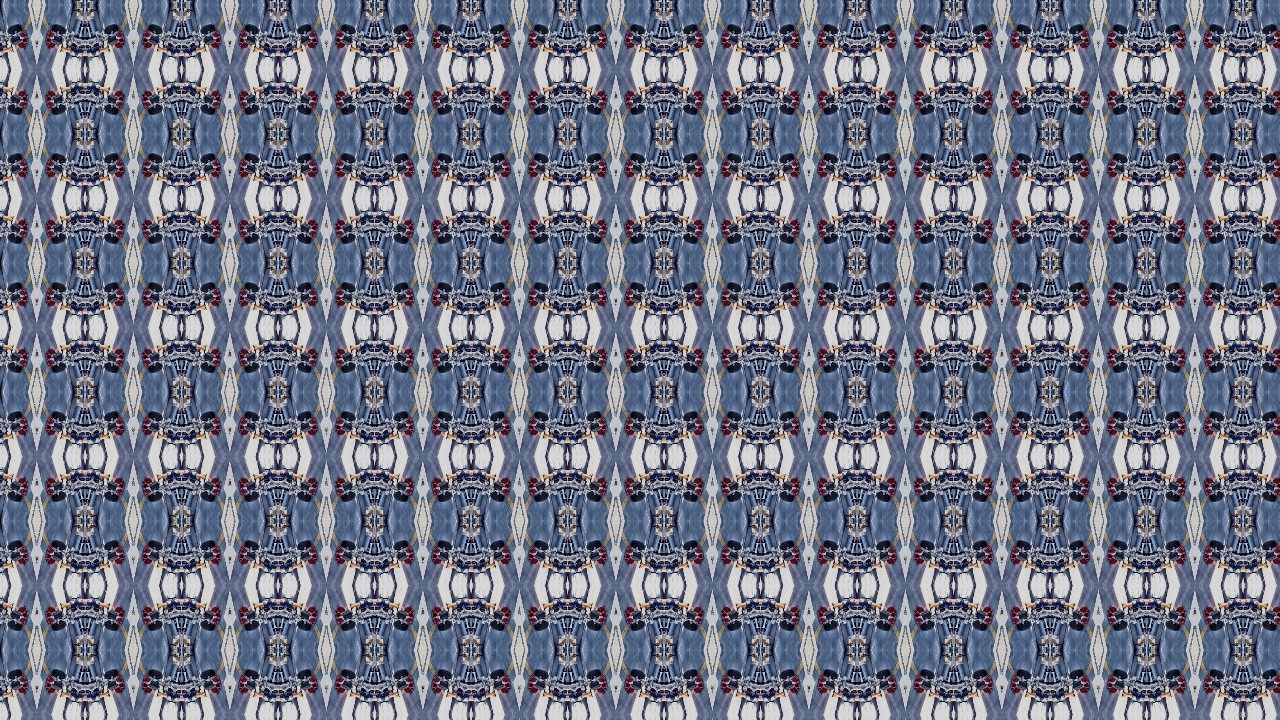chock: (16, 28, 27, 46), (41, 28, 52, 46), (113, 28, 124, 46), (138, 28, 149, 46), (210, 28, 221, 46), (235, 28, 246, 46), (307, 28, 318, 46), (332, 28, 343, 46), (404, 28, 415, 46), (429, 28, 440, 46), (501, 28, 512, 46), (526, 28, 537, 46), (598, 28, 609, 46), (623, 28, 634, 46), (695, 28, 706, 46), (720, 28, 731, 46), (792, 28, 803, 46), (817, 28, 828, 46), (889, 28, 900, 46), (914, 28, 925, 46), (986, 28, 997, 46), (1011, 28, 1022, 46), (1083, 28, 1094, 46), (1108, 28, 1119, 46), (1180, 28, 1191, 46), (1205, 28, 1216, 46), (16, 91, 27, 109), (41, 91, 52, 109), (113, 91, 124, 109), (138, 91, 149, 109), (210, 91, 221, 109), (235, 91, 246, 109), (307, 91, 318, 109), (332, 91, 343, 109), (404, 91, 415, 109), (429, 91, 440, 109), (501, 91, 512, 109), (526, 91, 537, 109), (598, 91, 609, 109), (623, 91, 634, 109), (695, 91, 706, 109), (720, 91, 731, 109), (792, 91, 803, 109), (817, 91, 828, 109), (889, 91, 900, 109), (914, 91, 925, 109), (986, 91, 997, 109), (1011, 91, 1022, 109), (1083, 91, 1094, 109), (1108, 91, 1119, 109), (1180, 91, 1191, 109), (1205, 91, 1216, 109), (16, 157, 27, 175), (41, 157, 52, 175), (113, 157, 124, 175), (138, 157, 149, 175), (210, 157, 221, 175), (235, 157, 246, 175), (307, 157, 318, 175), (332, 157, 343, 175), (404, 157, 415, 175), (429, 157, 440, 175), (501, 157, 512, 175), (526, 157, 537, 175), (598, 157, 609, 175), (623, 157, 634, 175), (695, 157, 706, 175), (720, 157, 731, 175), (792, 157, 803, 175), (817, 157, 828, 175), (889, 157, 900, 175), (914, 157, 925, 175), (986, 157, 997, 175), (1011, 157, 1022, 175), (1083, 157, 1094, 175), (1108, 157, 1119, 175), (1180, 157, 1191, 175), (1205, 157, 1216, 175), (16, 221, 27, 239), (41, 221, 52, 239), (113, 221, 124, 239), (138, 221, 149, 239), (210, 221, 221, 239), (235, 221, 246, 239), (307, 221, 318, 239), (332, 221, 343, 239), (404, 221, 415, 239), (429, 221, 440, 239), (501, 221, 512, 239), (526, 221, 537, 239), (598, 221, 609, 239), (623, 221, 634, 239), (695, 221, 706, 239), (720, 221, 731, 239), (792, 221, 803, 239), (817, 221, 828, 239), (889, 221, 900, 239), (914, 221, 925, 239), (986, 221, 997, 239), (1011, 221, 1022, 239), (1083, 221, 1094, 239), (1108, 221, 1119, 239), (1180, 221, 1191, 239), (1205, 221, 1216, 239), (16, 287, 27, 305), (41, 287, 52, 305), (113, 287, 124, 305), (138, 287, 149, 305), (210, 287, 221, 305), (235, 287, 246, 305), (307, 287, 318, 305), (332, 287, 343, 305), (404, 287, 415, 305), (429, 287, 440, 305), (501, 287, 512, 305), (526, 287, 537, 305), (598, 287, 609, 305), (623, 287, 634, 305), (695, 287, 706, 305), (720, 287, 731, 305), (792, 287, 803, 305), (817, 287, 828, 305), (889, 287, 900, 305), (914, 287, 925, 305), (986, 287, 997, 305), (1011, 287, 1022, 305), (1083, 287, 1094, 305), (1108, 287, 1119, 305), (1180, 287, 1191, 305), (1205, 287, 1216, 305), (16, 350, 27, 368), (41, 350, 52, 368), (113, 350, 124, 368), (138, 350, 149, 368), (210, 350, 221, 368), (235, 350, 246, 368), (307, 350, 318, 368), (332, 350, 343, 368), (404, 350, 415, 368), (429, 350, 440, 368), (501, 350, 512, 368), (526, 350, 537, 368), (598, 350, 609, 368), (623, 350, 634, 368), (695, 350, 706, 368), (720, 350, 731, 368), (792, 350, 803, 368), (817, 350, 828, 368), (889, 350, 900, 368), (914, 350, 925, 368), (986, 350, 997, 368), (1011, 350, 1022, 368), (1083, 350, 1094, 368), (1108, 350, 1119, 368), (1180, 350, 1191, 368), (1205, 350, 1216, 368), (16, 416, 27, 434), (41, 416, 52, 434), (113, 416, 124, 434), (138, 416, 149, 434), (210, 416, 221, 434), (235, 416, 246, 434), (307, 416, 318, 434), (332, 416, 343, 434), (404, 416, 415, 434), (429, 416, 440, 434), (501, 416, 512, 434), (526, 416, 537, 434), (598, 416, 609, 434), (623, 416, 634, 434), (695, 416, 706, 434), (720, 416, 731, 434), (792, 416, 803, 434), (817, 416, 828, 434), (889, 416, 900, 434), (914, 416, 925, 434), (986, 416, 997, 434), (1011, 416, 1022, 434), (1083, 416, 1094, 434), (1108, 416, 1119, 434), (1180, 416, 1191, 434), (1205, 416, 1216, 434), (16, 480, 27, 498), (41, 480, 52, 498), (113, 480, 124, 498), (138, 480, 149, 498), (210, 480, 221, 498), (235, 480, 246, 498), (307, 480, 318, 498), (332, 480, 343, 498), (404, 480, 415, 498), (429, 480, 440, 498), (501, 480, 512, 498), (526, 480, 537, 498), (598, 480, 609, 498), (623, 480, 634, 498), (695, 480, 706, 498), (720, 480, 731, 498), (792, 480, 803, 498), (817, 480, 828, 498), (889, 480, 900, 498), (914, 480, 925, 498), (986, 480, 997, 498), (1011, 480, 1022, 498), (1083, 480, 1094, 498), (1108, 480, 1119, 498), (1180, 480, 1191, 498), (1205, 480, 1216, 498), (16, 546, 27, 564), (41, 546, 52, 564), (113, 546, 124, 564), (138, 546, 149, 564), (210, 546, 221, 564), (235, 546, 246, 564), (307, 546, 318, 564), (332, 546, 343, 564), (404, 546, 415, 564), (429, 546, 440, 564), (501, 546, 512, 564), (526, 546, 537, 564), (598, 546, 609, 564), (623, 546, 634, 564), (695, 546, 706, 564), (720, 546, 731, 564), (792, 546, 803, 564), (817, 546, 828, 564), (889, 546, 900, 564), (914, 546, 925, 564), (986, 546, 997, 564), (1011, 546, 1022, 564), (1083, 546, 1094, 564), (1108, 546, 1119, 564), (1180, 546, 1191, 564), (1205, 546, 1216, 564), (16, 609, 27, 627), (41, 609, 52, 627), (113, 609, 124, 627), (138, 609, 149, 627), (210, 609, 221, 627), (235, 609, 246, 627), (307, 609, 318, 627), (332, 609, 343, 627), (404, 609, 415, 627), (429, 609, 440, 627), (501, 609, 512, 627), (526, 609, 537, 627), (598, 609, 609, 627), (623, 609, 634, 627), (695, 609, 706, 627), (720, 609, 731, 627), (792, 609, 803, 627), (817, 609, 828, 627), (889, 609, 900, 627), (914, 609, 925, 627), (986, 609, 997, 627), (1011, 609, 1022, 627), (1083, 609, 1094, 627), (1108, 609, 1119, 627), (1180, 609, 1191, 627), (1205, 609, 1216, 627), (16, 675, 27, 693), (41, 675, 52, 693), (113, 675, 124, 693), (138, 675, 149, 693), (210, 675, 221, 693), (235, 675, 246, 693), (307, 675, 318, 693), (332, 675, 343, 693), (404, 675, 415, 693), (429, 675, 440, 693), (501, 675, 512, 693), (526, 675, 537, 693), (598, 675, 609, 693), (623, 675, 634, 693), (695, 675, 706, 693), (720, 675, 731, 693), (792, 675, 803, 693), (817, 675, 828, 693), (889, 675, 900, 693), (914, 675, 925, 693), (986, 675, 997, 693), (1011, 675, 1022, 693), (1083, 675, 1094, 693), (1108, 675, 1119, 693), (1180, 675, 1191, 693), (1205, 675, 1216, 693), (44, 40, 53, 49), (141, 40, 150, 49), (238, 40, 247, 49), (335, 40, 344, 49), (432, 40, 441, 49), (529, 40, 538, 49), (626, 40, 635, 49), (723, 40, 732, 49), (820, 40, 829, 49), (917, 40, 926, 49), (1014, 40, 1023, 49), (1111, 40, 1120, 49), (1208, 40, 1217, 49), (44, 88, 53, 97), (141, 88, 150, 97), (238, 88, 247, 97), (335, 88, 344, 97), (432, 88, 441, 97), (529, 88, 538, 97), (626, 88, 635, 97), (723, 88, 732, 97), (820, 88, 829, 97), (917, 88, 926, 97), (1014, 88, 1023, 97), (1111, 88, 1120, 97), (1208, 88, 1217, 97), (44, 170, 53, 179), (141, 170, 150, 179), (238, 170, 247, 179), (335, 170, 344, 179), (432, 170, 441, 179), (529, 170, 538, 179), (626, 170, 635, 179), (723, 170, 732, 179), (820, 170, 829, 179), (917, 170, 926, 179), (1014, 170, 1023, 179), (1111, 170, 1120, 179), (1208, 170, 1217, 179), (44, 217, 53, 226), (141, 217, 150, 226), (238, 217, 247, 226), (335, 217, 344, 226), (432, 217, 441, 226), (529, 217, 538, 226), (626, 217, 635, 226), (723, 217, 732, 226), (820, 217, 829, 226), (917, 217, 926, 226), (1014, 217, 1023, 226), (1111, 217, 1120, 226), (1208, 217, 1217, 226), (44, 299, 53, 308), (141, 299, 150, 308), (238, 299, 247, 308), (335, 299, 344, 308), (432, 299, 441, 308), (529, 299, 538, 308), (626, 299, 635, 308), (723, 299, 732, 308), (820, 299, 829, 308), (917, 299, 926, 308), (1014, 299, 1023, 308), (1111, 299, 1120, 308), (1208, 299, 1217, 308), (44, 347, 53, 356), (141, 347, 150, 356), (238, 347, 247, 356), (335, 347, 344, 356), (432, 347, 441, 356), (529, 347, 538, 356), (626, 347, 635, 356), (723, 347, 732, 356), (820, 347, 829, 356), (917, 347, 926, 356), (1014, 347, 1023, 356), (1111, 347, 1120, 356), (1208, 347, 1217, 356), (44, 429, 53, 438), (141, 429, 150, 438), (238, 429, 247, 438), (335, 429, 344, 438), (432, 429, 441, 438), (529, 429, 538, 438), (626, 429, 635, 438), (723, 429, 732, 438), (820, 429, 829, 438), (917, 429, 926, 438), (1014, 429, 1023, 438), (1111, 429, 1120, 438), (1208, 429, 1217, 438), (44, 476, 53, 485), (141, 476, 150, 485), (238, 476, 247, 485), (335, 476, 344, 485), (432, 476, 441, 485), (529, 476, 538, 485), (626, 476, 635, 485), (723, 476, 732, 485), (820, 476, 829, 485), (917, 476, 926, 485), (1014, 476, 1023, 485), (1111, 476, 1120, 485), (1208, 476, 1217, 485), (44, 558, 53, 567), (141, 558, 150, 567), (238, 558, 247, 567), (335, 558, 344, 567), (432, 558, 441, 567), (529, 558, 538, 567), (626, 558, 635, 567), (723, 558, 732, 567), (820, 558, 829, 567), (917, 558, 926, 567), (1014, 558, 1023, 567), (1111, 558, 1120, 567), (1208, 558, 1217, 567), (44, 606, 53, 615), (141, 606, 150, 615), (238, 606, 247, 615), (335, 606, 344, 615), (432, 606, 441, 615), (529, 606, 538, 615), (626, 606, 635, 615), (723, 606, 732, 615), (820, 606, 829, 615), (917, 606, 926, 615), (1014, 606, 1023, 615), (1111, 606, 1120, 615), (1208, 606, 1217, 615), (44, 688, 53, 697), (141, 688, 150, 697), (238, 688, 247, 697), (335, 688, 344, 697), (432, 688, 441, 697), (529, 688, 538, 697), (626, 688, 635, 697), (723, 688, 732, 697), (820, 688, 829, 697), (917, 688, 926, 697), (1014, 688, 1023, 697), (1111, 688, 1120, 697), (1208, 688, 1217, 697), (15, 40, 23, 49), (112, 40, 120, 49), (209, 40, 217, 49), (306, 40, 314, 49), (403, 40, 411, 49), (500, 40, 508, 49), (597, 40, 605, 49), (694, 40, 702, 49), (791, 40, 799, 49), (888, 40, 896, 49), (985, 40, 993, 49), (1082, 40, 1090, 49), (1179, 40, 1187, 49), (15, 88, 23, 97), (112, 88, 120, 97), (209, 88, 217, 97), (306, 88, 314, 97), (403, 88, 411, 97), (500, 88, 508, 97), (597, 88, 605, 97), (694, 88, 702, 97), (791, 88, 799, 97), (888, 88, 896, 97), (985, 88, 993, 97), (1082, 88, 1090, 97), (1179, 88, 1187, 97), (15, 170, 23, 179), (112, 170, 120, 179), (209, 170, 217, 179), (306, 170, 314, 179), (403, 170, 411, 179), (500, 170, 508, 179), (597, 170, 605, 179), (694, 170, 702, 179), (791, 170, 799, 179), (888, 170, 896, 179), (985, 170, 993, 179), (1082, 170, 1090, 179), (1179, 170, 1187, 179), (15, 217, 23, 226), (112, 217, 120, 226), (209, 217, 217, 226), (306, 217, 314, 226), (403, 217, 411, 226), (500, 217, 508, 226), (597, 217, 605, 226), (694, 217, 702, 226), (791, 217, 799, 226), (888, 217, 896, 226), (985, 217, 993, 226), (1082, 217, 1090, 226), (1179, 217, 1187, 226), (15, 299, 23, 308), (112, 299, 120, 308), (209, 299, 217, 308), (306, 299, 314, 308), (403, 299, 411, 308), (500, 299, 508, 308), (597, 299, 605, 308), (694, 299, 702, 308), (791, 299, 799, 308), (888, 299, 896, 308), (985, 299, 993, 308), (1082, 299, 1090, 308), (1179, 299, 1187, 308), (15, 347, 23, 356), (112, 347, 120, 356), (209, 347, 217, 356), (306, 347, 314, 356), (403, 347, 411, 356), (500, 347, 508, 356), (597, 347, 605, 356), (694, 347, 702, 356), (791, 347, 799, 356), (888, 347, 896, 356), (985, 347, 993, 356), (1082, 347, 1090, 356), (1179, 347, 1187, 356), (15, 429, 23, 438), (112, 429, 120, 438), (209, 429, 217, 438), (306, 429, 314, 438), (403, 429, 411, 438), (500, 429, 508, 438), (597, 429, 605, 438), (694, 429, 702, 438), (791, 429, 799, 438), (888, 429, 896, 438), (985, 429, 993, 438), (1082, 429, 1090, 438), (1179, 429, 1187, 438), (15, 476, 23, 485), (112, 476, 120, 485), (209, 476, 217, 485), (306, 476, 314, 485), (403, 476, 411, 485), (500, 476, 508, 485), (597, 476, 605, 485), (694, 476, 702, 485), (791, 476, 799, 485), (888, 476, 896, 485), (985, 476, 993, 485), (1082, 476, 1090, 485), (1179, 476, 1187, 485), (15, 558, 23, 567), (112, 558, 120, 567), (209, 558, 217, 567), (306, 558, 314, 567), (403, 558, 411, 567), (500, 558, 508, 567), (597, 558, 605, 567), (694, 558, 702, 567), (791, 558, 799, 567), (888, 558, 896, 567), (985, 558, 993, 567), (1082, 558, 1090, 567), (1179, 558, 1187, 567), (15, 606, 23, 615), (112, 606, 120, 615), (209, 606, 217, 615), (306, 606, 314, 615), (403, 606, 411, 615), (500, 606, 508, 615), (597, 606, 605, 615), (694, 606, 702, 615), (791, 606, 799, 615), (888, 606, 896, 615), (985, 606, 993, 615), (1082, 606, 1090, 615), (1179, 606, 1187, 615), (15, 688, 23, 697), (112, 688, 120, 697), (209, 688, 217, 697), (306, 688, 314, 697), (403, 688, 411, 697), (500, 688, 508, 697), (597, 688, 605, 697), (694, 688, 702, 697), (791, 688, 799, 697), (888, 688, 896, 697), (985, 688, 993, 697), (1082, 688, 1090, 697), (1179, 688, 1187, 697), (1277, 28, 1280, 46), (1277, 91, 1280, 109), (1277, 157, 1280, 175), (1277, 221, 1280, 239), (1277, 287, 1280, 305), (1277, 350, 1280, 368), (1277, 416, 1280, 434), (1277, 480, 1280, 498), (1277, 546, 1280, 564), (1277, 609, 1280, 627), (1277, 675, 1280, 693), (16, 31, 23, 38), (45, 31, 52, 38), (113, 31, 120, 38), (142, 31, 149, 38), (210, 31, 217, 38), (239, 31, 246, 38), (307, 31, 314, 38), (336, 31, 343, 38), (404, 31, 411, 38), (433, 31, 440, 38), (501, 31, 508, 38), (530, 31, 537, 38), (598, 31, 605, 38), (627, 31, 634, 38), (695, 31, 702, 38), (724, 31, 731, 38), (792, 31, 799, 38), (821, 31, 828, 38), (889, 31, 896, 38), (918, 31, 925, 38), (986, 31, 993, 38), (1015, 31, 1022, 38), (1083, 31, 1090, 38), (1112, 31, 1119, 38), (1180, 31, 1187, 38), (1209, 31, 1216, 38), (16, 99, 23, 106), (45, 99, 52, 106), (113, 99, 120, 106), (142, 99, 149, 106), (210, 99, 217, 106), (239, 99, 246, 106), (307, 99, 314, 106), (336, 99, 343, 106), (404, 99, 411, 106), (433, 99, 440, 106), (501, 99, 508, 106), (530, 99, 537, 106), (598, 99, 605, 106), (627, 99, 634, 106), (695, 99, 702, 106), (724, 99, 731, 106), (792, 99, 799, 106), (821, 99, 828, 106), (889, 99, 896, 106), (918, 99, 925, 106), (986, 99, 993, 106), (1015, 99, 1022, 106), (1083, 99, 1090, 106), (1112, 99, 1119, 106), (1180, 99, 1187, 106), (1209, 99, 1216, 106), (16, 160, 23, 167), (45, 160, 52, 167), (113, 160, 120, 167), (142, 160, 149, 167), (210, 160, 217, 167), (239, 160, 246, 167), (307, 160, 314, 167), (336, 160, 343, 167), (404, 160, 411, 167), (433, 160, 440, 167), (501, 160, 508, 167), (530, 160, 537, 167), (598, 160, 605, 167), (627, 160, 634, 167), (695, 160, 702, 167), (724, 160, 731, 167), (792, 160, 799, 167), (821, 160, 828, 167), (889, 160, 896, 167), (918, 160, 925, 167), (986, 160, 993, 167), (1015, 160, 1022, 167), (1083, 160, 1090, 167), (1112, 160, 1119, 167), (1180, 160, 1187, 167), (1209, 160, 1216, 167), (16, 229, 23, 236), (45, 229, 52, 236), (113, 229, 120, 236), (142, 229, 149, 236), (210, 229, 217, 236), (239, 229, 246, 236), (307, 229, 314, 236), (336, 229, 343, 236), (404, 229, 411, 236), (433, 229, 440, 236), (501, 229, 508, 236), (530, 229, 537, 236), (598, 229, 605, 236), (627, 229, 634, 236), (695, 229, 702, 236), (724, 229, 731, 236), (792, 229, 799, 236), (821, 229, 828, 236), (889, 229, 896, 236), (918, 229, 925, 236), (986, 229, 993, 236), (1015, 229, 1022, 236), (1083, 229, 1090, 236), (1112, 229, 1119, 236), (1180, 229, 1187, 236), (1209, 229, 1216, 236), (16, 290, 23, 297), (45, 290, 52, 297), (113, 290, 120, 297), (142, 290, 149, 297), (210, 290, 217, 297), (239, 290, 246, 297), (307, 290, 314, 297), (336, 290, 343, 297), (404, 290, 411, 297), (433, 290, 440, 297), (501, 290, 508, 297), (530, 290, 537, 297), (598, 290, 605, 297), (627, 290, 634, 297), (695, 290, 702, 297), (724, 290, 731, 297), (792, 290, 799, 297), (821, 290, 828, 297), (889, 290, 896, 297), (918, 290, 925, 297), (986, 290, 993, 297), (1015, 290, 1022, 297), (1083, 290, 1090, 297), (1112, 290, 1119, 297), (1180, 290, 1187, 297), (1209, 290, 1216, 297), (16, 358, 23, 365), (45, 358, 52, 365), (113, 358, 120, 365), (142, 358, 149, 365), (210, 358, 217, 365), (239, 358, 246, 365), (307, 358, 314, 365), (336, 358, 343, 365), (404, 358, 411, 365), (433, 358, 440, 365), (501, 358, 508, 365), (530, 358, 537, 365), (598, 358, 605, 365), (627, 358, 634, 365), (695, 358, 702, 365), (724, 358, 731, 365), (792, 358, 799, 365), (821, 358, 828, 365), (889, 358, 896, 365), (918, 358, 925, 365), (986, 358, 993, 365), (1015, 358, 1022, 365), (1083, 358, 1090, 365), (1112, 358, 1119, 365), (1180, 358, 1187, 365), (1209, 358, 1216, 365), (16, 419, 23, 426), (45, 419, 52, 426), (113, 419, 120, 426), (142, 419, 149, 426), (210, 419, 217, 426), (239, 419, 246, 426), (307, 419, 314, 426), (336, 419, 343, 426), (404, 419, 411, 426), (433, 419, 440, 426), (501, 419, 508, 426), (530, 419, 537, 426), (598, 419, 605, 426), (627, 419, 634, 426), (695, 419, 702, 426), (724, 419, 731, 426), (792, 419, 799, 426), (821, 419, 828, 426), (889, 419, 896, 426), (918, 419, 925, 426), (986, 419, 993, 426), (1015, 419, 1022, 426), (1083, 419, 1090, 426), (1112, 419, 1119, 426), (1180, 419, 1187, 426), (1209, 419, 1216, 426), (16, 488, 23, 495), (45, 488, 52, 495), (113, 488, 120, 495), (142, 488, 149, 495), (210, 488, 217, 495), (239, 488, 246, 495), (307, 488, 314, 495), (336, 488, 343, 495), (404, 488, 411, 495), (433, 488, 440, 495), (501, 488, 508, 495), (530, 488, 537, 495), (598, 488, 605, 495), (627, 488, 634, 495), (695, 488, 702, 495), (724, 488, 731, 495), (792, 488, 799, 495), (821, 488, 828, 495), (889, 488, 896, 495), (918, 488, 925, 495), (986, 488, 993, 495), (1015, 488, 1022, 495), (1083, 488, 1090, 495), (1112, 488, 1119, 495), (1180, 488, 1187, 495), (1209, 488, 1216, 495), (16, 549, 23, 556), (45, 549, 52, 556), (113, 549, 120, 556), (142, 549, 149, 556), (210, 549, 217, 556), (239, 549, 246, 556), (307, 549, 314, 556), (336, 549, 343, 556), (404, 549, 411, 556), (433, 549, 440, 556), (501, 549, 508, 556), (530, 549, 537, 556), (598, 549, 605, 556), (627, 549, 634, 556), (695, 549, 702, 556), (724, 549, 731, 556), (792, 549, 799, 556), (821, 549, 828, 556), (889, 549, 896, 556), (918, 549, 925, 556), (986, 549, 993, 556), (1015, 549, 1022, 556), (1083, 549, 1090, 556), (1112, 549, 1119, 556), (1180, 549, 1187, 556), (1209, 549, 1216, 556), (16, 617, 23, 624), (45, 617, 52, 624), (113, 617, 120, 624), (142, 617, 149, 624), (210, 617, 217, 624), (239, 617, 246, 624), (307, 617, 314, 624), (336, 617, 343, 624), (404, 617, 411, 624), (433, 617, 440, 624), (501, 617, 508, 624), (530, 617, 537, 624), (598, 617, 605, 624), (627, 617, 634, 624), (695, 617, 702, 624), (724, 617, 731, 624), (792, 617, 799, 624), (821, 617, 828, 624), (889, 617, 896, 624), (918, 617, 925, 624), (986, 617, 993, 624), (1015, 617, 1022, 624), (1083, 617, 1090, 624), (1112, 617, 1119, 624), (1180, 617, 1187, 624), (1209, 617, 1216, 624), (16, 678, 23, 685), (45, 678, 52, 685), (113, 678, 120, 685), (142, 678, 149, 685), (210, 678, 217, 685), (239, 678, 246, 685), (307, 678, 314, 685), (336, 678, 343, 685), (404, 678, 411, 685), (433, 678, 440, 685), (501, 678, 508, 685), (530, 678, 537, 685), (598, 678, 605, 685), (627, 678, 634, 685), (695, 678, 702, 685), (724, 678, 731, 685), (792, 678, 799, 685), (821, 678, 828, 685), (889, 678, 896, 685), (918, 678, 925, 685), (986, 678, 993, 685), (1015, 678, 1022, 685), (1083, 678, 1090, 685), (1112, 678, 1119, 685), (1180, 678, 1187, 685), (1209, 678, 1216, 685), (1276, 40, 1280, 49), (1276, 88, 1280, 97), (1276, 170, 1280, 179), (1276, 217, 1280, 226), (1276, 299, 1280, 308), (1276, 347, 1280, 356), (1276, 429, 1280, 438), (1276, 476, 1280, 485), (1276, 558, 1280, 567), (1276, 606, 1280, 615), (1276, 688, 1280, 697), (1277, 31, 1280, 38), (1277, 99, 1280, 106), (1277, 160, 1280, 167), (1277, 229, 1280, 236), (1277, 290, 1280, 297), (1277, 358, 1280, 365), (1277, 419, 1280, 426), (1277, 488, 1280, 495), (1277, 549, 1280, 556), (1277, 617, 1280, 624), (1277, 678, 1280, 685)
wheel: (48, 22, 64, 34), (145, 22, 161, 34), (242, 22, 258, 34), (339, 22, 355, 34), (436, 22, 452, 34), (533, 22, 549, 34), (630, 22, 646, 34), (727, 22, 743, 34), (824, 22, 840, 34), (921, 22, 937, 34), (1018, 22, 1034, 34), (1115, 22, 1131, 34), (1212, 22, 1228, 34), (48, 103, 64, 115), (145, 103, 161, 115), (242, 103, 258, 115), (339, 103, 355, 115), (436, 103, 452, 115), (533, 103, 549, 115), (630, 103, 646, 115), (727, 103, 743, 115), (824, 103, 840, 115), (921, 103, 937, 115), (1018, 103, 1034, 115), (1115, 103, 1131, 115), (1212, 103, 1228, 115), (48, 152, 64, 164), (145, 152, 161, 164), (242, 152, 258, 164), (339, 152, 355, 164), (436, 152, 452, 164), (533, 152, 549, 164), (630, 152, 646, 164), (727, 152, 743, 164), (824, 152, 840, 164), (921, 152, 937, 164), (1018, 152, 1034, 164), (1115, 152, 1131, 164), (1212, 152, 1228, 164), (48, 232, 64, 244), (145, 232, 161, 244), (242, 232, 258, 244), (339, 232, 355, 244), (436, 232, 452, 244), (533, 232, 549, 244), (630, 232, 646, 244), (727, 232, 743, 244), (824, 232, 840, 244), (921, 232, 937, 244), (1018, 232, 1034, 244), (1115, 232, 1131, 244), (1212, 232, 1228, 244), (48, 281, 64, 293), (145, 281, 161, 293), (242, 281, 258, 293), (339, 281, 355, 293), (436, 281, 452, 293), (533, 281, 549, 293), (630, 281, 646, 293), (727, 281, 743, 293), (824, 281, 840, 293), (921, 281, 937, 293), (1018, 281, 1034, 293), (1115, 281, 1131, 293), (1212, 281, 1228, 293), (48, 362, 64, 374), (145, 362, 161, 374), (242, 362, 258, 374), (339, 362, 355, 374), (436, 362, 452, 374), (533, 362, 549, 374), (630, 362, 646, 374), (727, 362, 743, 374), (824, 362, 840, 374), (921, 362, 937, 374), (1018, 362, 1034, 374), (1115, 362, 1131, 374), (1212, 362, 1228, 374), (48, 411, 64, 423), (145, 411, 161, 423), (242, 411, 258, 423), (339, 411, 355, 423), (436, 411, 452, 423), (533, 411, 549, 423), (630, 411, 646, 423), (727, 411, 743, 423), (824, 411, 840, 423), (921, 411, 937, 423), (1018, 411, 1034, 423), (1115, 411, 1131, 423), (1212, 411, 1228, 423), (48, 491, 64, 503), (145, 491, 161, 503), (242, 491, 258, 503), (339, 491, 355, 503), (436, 491, 452, 503), (533, 491, 549, 503), (630, 491, 646, 503), (727, 491, 743, 503), (824, 491, 840, 503), (921, 491, 937, 503), (1018, 491, 1034, 503), (1115, 491, 1131, 503), (1212, 491, 1228, 503), (48, 540, 64, 552), (145, 540, 161, 552), (242, 540, 258, 552), (339, 540, 355, 552), (436, 540, 452, 552), (533, 540, 549, 552), (630, 540, 646, 552), (727, 540, 743, 552), (824, 540, 840, 552), (921, 540, 937, 552), (1018, 540, 1034, 552), (1115, 540, 1131, 552), (1212, 540, 1228, 552), (48, 621, 64, 633), (145, 621, 161, 633), (242, 621, 258, 633), (339, 621, 355, 633), (436, 621, 452, 633), (533, 621, 549, 633), (630, 621, 646, 633), (727, 621, 743, 633), (824, 621, 840, 633), (921, 621, 937, 633), (1018, 621, 1034, 633), (1115, 621, 1131, 633), (1212, 621, 1228, 633), (48, 670, 64, 682), (145, 670, 161, 682), (242, 670, 258, 682), (339, 670, 355, 682), (436, 670, 452, 682), (533, 670, 549, 682), (630, 670, 646, 682), (727, 670, 743, 682), (824, 670, 840, 682), (921, 670, 937, 682), (1018, 670, 1034, 682), (1115, 670, 1131, 682), (1212, 670, 1228, 682), (4, 22, 19, 34), (101, 22, 116, 34), (198, 22, 213, 34), (295, 22, 310, 34), (392, 22, 407, 34), (489, 22, 504, 34), (586, 22, 601, 34), (683, 22, 698, 34), (780, 22, 795, 34), (877, 22, 892, 34), (974, 22, 989, 34), (1071, 22, 1086, 34), (1168, 22, 1183, 34), (1265, 22, 1280, 34), (4, 103, 19, 115), (101, 103, 116, 115), (198, 103, 213, 115), (295, 103, 310, 115), (392, 103, 407, 115), (489, 103, 504, 115), (586, 103, 601, 115), (683, 103, 698, 115), (780, 103, 795, 115), (877, 103, 892, 115), (974, 103, 989, 115), (1071, 103, 1086, 115), (1168, 103, 1183, 115), (1265, 103, 1280, 115), (4, 152, 19, 164), (101, 152, 116, 164), (198, 152, 213, 164), (295, 152, 310, 164), (392, 152, 407, 164), (489, 152, 504, 164), (586, 152, 601, 164), (683, 152, 698, 164), (780, 152, 795, 164), (877, 152, 892, 164), (974, 152, 989, 164), (1071, 152, 1086, 164), (1168, 152, 1183, 164), (1265, 152, 1280, 164), (4, 232, 19, 244), (101, 232, 116, 244), (198, 232, 213, 244), (295, 232, 310, 244), (392, 232, 407, 244), (489, 232, 504, 244), (586, 232, 601, 244), (683, 232, 698, 244), (780, 232, 795, 244), (877, 232, 892, 244), (974, 232, 989, 244), (1071, 232, 1086, 244), (1168, 232, 1183, 244), (1265, 232, 1280, 244), (4, 281, 19, 293), (101, 281, 116, 293), (198, 281, 213, 293), (295, 281, 310, 293), (392, 281, 407, 293), (489, 281, 504, 293), (586, 281, 601, 293), (683, 281, 698, 293), (780, 281, 795, 293), (877, 281, 892, 293), (974, 281, 989, 293), (1071, 281, 1086, 293), (1168, 281, 1183, 293), (1265, 281, 1280, 293), (4, 362, 19, 374), (101, 362, 116, 374), (198, 362, 213, 374), (295, 362, 310, 374), (392, 362, 407, 374), (489, 362, 504, 374), (586, 362, 601, 374), (683, 362, 698, 374), (780, 362, 795, 374), (877, 362, 892, 374), (974, 362, 989, 374), (1071, 362, 1086, 374), (1168, 362, 1183, 374), (1265, 362, 1280, 374), (4, 411, 19, 423), (101, 411, 116, 423), (198, 411, 213, 423), (295, 411, 310, 423), (392, 411, 407, 423), (489, 411, 504, 423), (586, 411, 601, 423), (683, 411, 698, 423), (780, 411, 795, 423), (877, 411, 892, 423), (974, 411, 989, 423), (1071, 411, 1086, 423), (1168, 411, 1183, 423), (1265, 411, 1280, 423), (4, 491, 19, 503), (101, 491, 116, 503), (198, 491, 213, 503), (295, 491, 310, 503), (392, 491, 407, 503), (489, 491, 504, 503), (586, 491, 601, 503), (683, 491, 698, 503), (780, 491, 795, 503), (877, 491, 892, 503), (974, 491, 989, 503), (1071, 491, 1086, 503), (1168, 491, 1183, 503), (1265, 491, 1280, 503), (4, 540, 19, 552), (101, 540, 116, 552), (198, 540, 213, 552), (295, 540, 310, 552), (392, 540, 407, 552), (489, 540, 504, 552), (586, 540, 601, 552), (683, 540, 698, 552), (780, 540, 795, 552), (877, 540, 892, 552), (974, 540, 989, 552), (1071, 540, 1086, 552), (1168, 540, 1183, 552), (1265, 540, 1280, 552), (4, 621, 19, 633), (101, 621, 116, 633), (198, 621, 213, 633), (295, 621, 310, 633), (392, 621, 407, 633), (489, 621, 504, 633), (586, 621, 601, 633), (683, 621, 698, 633), (780, 621, 795, 633), (877, 621, 892, 633), (974, 621, 989, 633), (1071, 621, 1086, 633), (1168, 621, 1183, 633), (1265, 621, 1280, 633), (4, 670, 19, 682), (101, 670, 116, 682), (198, 670, 213, 682), (295, 670, 310, 682), (392, 670, 407, 682), (489, 670, 504, 682), (586, 670, 601, 682), (683, 670, 698, 682), (780, 670, 795, 682), (877, 670, 892, 682), (974, 670, 989, 682), (1071, 670, 1086, 682), (1168, 670, 1183, 682), (1265, 670, 1280, 682), (7, 34, 20, 45), (48, 34, 61, 45), (104, 34, 117, 45), (145, 34, 158, 45), (201, 34, 214, 45), (242, 34, 255, 45), (298, 34, 311, 45), (339, 34, 352, 45), (395, 34, 408, 45), (436, 34, 449, 45), (492, 34, 505, 45), (533, 34, 546, 45), (589, 34, 602, 45), (630, 34, 643, 45), (686, 34, 699, 45), (727, 34, 740, 45), (783, 34, 796, 45), (824, 34, 837, 45), (880, 34, 893, 45), (921, 34, 934, 45), (977, 34, 990, 45), (1018, 34, 1031, 45), (1074, 34, 1087, 45), (1115, 34, 1128, 45), (1171, 34, 1184, 45), (1212, 34, 1225, 45), (7, 92, 20, 103), (48, 92, 61, 103), (104, 92, 117, 103), (145, 92, 158, 103), (201, 92, 214, 103), (242, 92, 255, 103), (298, 92, 311, 103), (339, 92, 352, 103), (395, 92, 408, 103), (436, 92, 449, 103), (492, 92, 505, 103), (533, 92, 546, 103), (589, 92, 602, 103), (630, 92, 643, 103), (686, 92, 699, 103), (727, 92, 740, 103), (783, 92, 796, 103), (824, 92, 837, 103), (880, 92, 893, 103), (921, 92, 934, 103), (977, 92, 990, 103), (1018, 92, 1031, 103), (1074, 92, 1087, 103), (1115, 92, 1128, 103), (1171, 92, 1184, 103), (1212, 92, 1225, 103), (7, 163, 20, 174), (48, 163, 61, 174), (104, 163, 117, 174), (145, 163, 158, 174), (201, 163, 214, 174), (242, 163, 255, 174), (298, 163, 311, 174), (339, 163, 352, 174), (395, 163, 408, 174), (436, 163, 449, 174), (492, 163, 505, 174), (533, 163, 546, 174), (589, 163, 602, 174), (630, 163, 643, 174), (686, 163, 699, 174), (727, 163, 740, 174), (783, 163, 796, 174), (824, 163, 837, 174), (880, 163, 893, 174), (921, 163, 934, 174), (977, 163, 990, 174), (1018, 163, 1031, 174), (1074, 163, 1087, 174), (1115, 163, 1128, 174), (1171, 163, 1184, 174), (1212, 163, 1225, 174), (7, 222, 20, 233), (48, 222, 61, 233), (104, 222, 117, 233), (145, 222, 158, 233), (201, 222, 214, 233), (242, 222, 255, 233), (298, 222, 311, 233), (339, 222, 352, 233), (395, 222, 408, 233), (436, 222, 449, 233), (492, 222, 505, 233), (533, 222, 546, 233), (589, 222, 602, 233), (630, 222, 643, 233), (686, 222, 699, 233), (727, 222, 740, 233), (783, 222, 796, 233), (824, 222, 837, 233), (880, 222, 893, 233), (921, 222, 934, 233), (977, 222, 990, 233), (1018, 222, 1031, 233), (1074, 222, 1087, 233), (1115, 222, 1128, 233), (1171, 222, 1184, 233), (1212, 222, 1225, 233), (7, 293, 20, 304), (48, 293, 61, 304), (104, 293, 117, 304), (145, 293, 158, 304), (201, 293, 214, 304), (242, 293, 255, 304), (298, 293, 311, 304), (339, 293, 352, 304), (395, 293, 408, 304), (436, 293, 449, 304), (492, 293, 505, 304), (533, 293, 546, 304), (589, 293, 602, 304), (630, 293, 643, 304), (686, 293, 699, 304), (727, 293, 740, 304), (783, 293, 796, 304), (824, 293, 837, 304), (880, 293, 893, 304), (921, 293, 934, 304), (977, 293, 990, 304), (1018, 293, 1031, 304), (1074, 293, 1087, 304), (1115, 293, 1128, 304), (1171, 293, 1184, 304), (1212, 293, 1225, 304), (7, 351, 20, 362), (48, 351, 61, 362), (104, 351, 117, 362), (145, 351, 158, 362), (201, 351, 214, 362), (242, 351, 255, 362), (298, 351, 311, 362), (339, 351, 352, 362), (395, 351, 408, 362), (436, 351, 449, 362), (492, 351, 505, 362), (533, 351, 546, 362), (589, 351, 602, 362), (630, 351, 643, 362), (686, 351, 699, 362), (727, 351, 740, 362), (783, 351, 796, 362), (824, 351, 837, 362), (880, 351, 893, 362), (921, 351, 934, 362), (977, 351, 990, 362), (1018, 351, 1031, 362), (1074, 351, 1087, 362), (1115, 351, 1128, 362), (1171, 351, 1184, 362), (1212, 351, 1225, 362), (7, 422, 20, 433), (48, 422, 61, 433), (104, 422, 117, 433), (145, 422, 158, 433), (201, 422, 214, 433), (242, 422, 255, 433), (298, 422, 311, 433), (339, 422, 352, 433), (395, 422, 408, 433), (436, 422, 449, 433), (492, 422, 505, 433), (533, 422, 546, 433), (589, 422, 602, 433), (630, 422, 643, 433), (686, 422, 699, 433), (727, 422, 740, 433), (783, 422, 796, 433), (824, 422, 837, 433), (880, 422, 893, 433), (921, 422, 934, 433), (977, 422, 990, 433), (1018, 422, 1031, 433), (1074, 422, 1087, 433), (1115, 422, 1128, 433), (1171, 422, 1184, 433), (1212, 422, 1225, 433), (7, 481, 20, 492), (48, 481, 61, 492), (104, 481, 117, 492), (145, 481, 158, 492), (201, 481, 214, 492), (242, 481, 255, 492), (298, 481, 311, 492), (339, 481, 352, 492), (395, 481, 408, 492), (436, 481, 449, 492), (492, 481, 505, 492), (533, 481, 546, 492), (589, 481, 602, 492), (630, 481, 643, 492), (686, 481, 699, 492), (727, 481, 740, 492), (783, 481, 796, 492), (824, 481, 837, 492), (880, 481, 893, 492), (921, 481, 934, 492), (977, 481, 990, 492), (1018, 481, 1031, 492), (1074, 481, 1087, 492), (1115, 481, 1128, 492), (1171, 481, 1184, 492), (1212, 481, 1225, 492), (7, 552, 20, 563), (48, 552, 61, 563), (104, 552, 117, 563), (145, 552, 158, 563), (201, 552, 214, 563), (242, 552, 255, 563), (298, 552, 311, 563), (339, 552, 352, 563), (395, 552, 408, 563), (436, 552, 449, 563), (492, 552, 505, 563), (533, 552, 546, 563), (589, 552, 602, 563), (630, 552, 643, 563), (686, 552, 699, 563), (727, 552, 740, 563), (783, 552, 796, 563), (824, 552, 837, 563), (880, 552, 893, 563), (921, 552, 934, 563), (977, 552, 990, 563), (1018, 552, 1031, 563), (1074, 552, 1087, 563), (1115, 552, 1128, 563), (1171, 552, 1184, 563), (1212, 552, 1225, 563), (7, 610, 20, 621), (48, 610, 61, 621), (104, 610, 117, 621), (145, 610, 158, 621), (201, 610, 214, 621), (242, 610, 255, 621), (298, 610, 311, 621), (339, 610, 352, 621), (395, 610, 408, 621), (436, 610, 449, 621), (492, 610, 505, 621), (533, 610, 546, 621), (589, 610, 602, 621), (630, 610, 643, 621), (686, 610, 699, 621), (727, 610, 740, 621), (783, 610, 796, 621), (824, 610, 837, 621), (880, 610, 893, 621), (921, 610, 934, 621), (977, 610, 990, 621), (1018, 610, 1031, 621), (1074, 610, 1087, 621), (1115, 610, 1128, 621), (1171, 610, 1184, 621), (1212, 610, 1225, 621), (7, 681, 20, 692), (48, 681, 61, 692), (104, 681, 117, 692), (145, 681, 158, 692), (201, 681, 214, 692), (242, 681, 255, 692), (298, 681, 311, 692), (339, 681, 352, 692), (395, 681, 408, 692), (436, 681, 449, 692), (492, 681, 505, 692), (533, 681, 546, 692), (589, 681, 602, 692), (630, 681, 643, 692), (686, 681, 699, 692), (727, 681, 740, 692), (783, 681, 796, 692), (824, 681, 837, 692), (880, 681, 893, 692), (921, 681, 934, 692), (977, 681, 990, 692), (1018, 681, 1031, 692), (1074, 681, 1087, 692), (1115, 681, 1128, 692), (1171, 681, 1184, 692), (1212, 681, 1225, 692), (1268, 34, 1280, 45), (1268, 92, 1280, 103), (1268, 163, 1280, 174), (1268, 222, 1280, 233), (1268, 293, 1280, 304), (1268, 351, 1280, 362), (1268, 422, 1280, 433), (1268, 481, 1280, 492), (1268, 552, 1280, 563), (1268, 610, 1280, 621), (1268, 681, 1280, 692)
